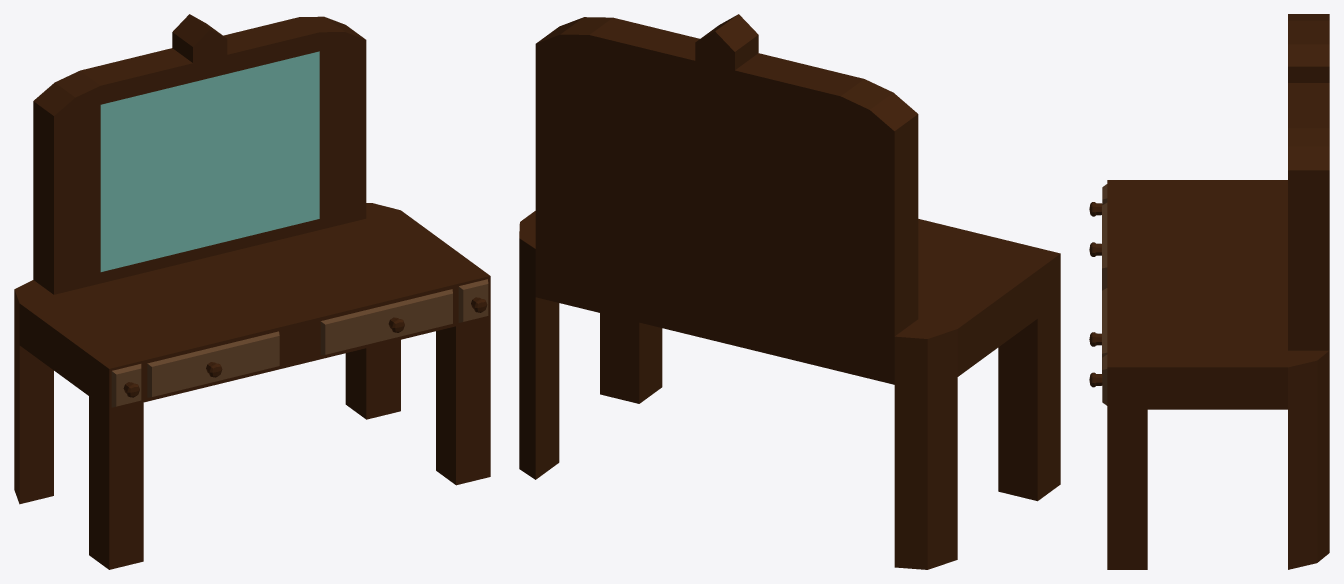
Rendered from MakeUP_V1.fbx.
The picture shows the model from 3 angles, left to right: view 1: azimuth 30°, elevation 25°; view 2: azimuth 150°, elevation 25°; view 3: azimuth 270°, elevation 25°; orthographic projection. The views are drawn at different scales.
Visible parts, largest first — view 1: MakeUp; view 2: MakeUp; view 3: MakeUp.
Part boxes in pixels (x1,y1,x2,y2): MakeUp: (14,14,490,569); MakeUp: (519,14,1060,569); MakeUp: (1089,14,1329,569).
Bounding box in the file's own units: 399 × 429 × 216.
